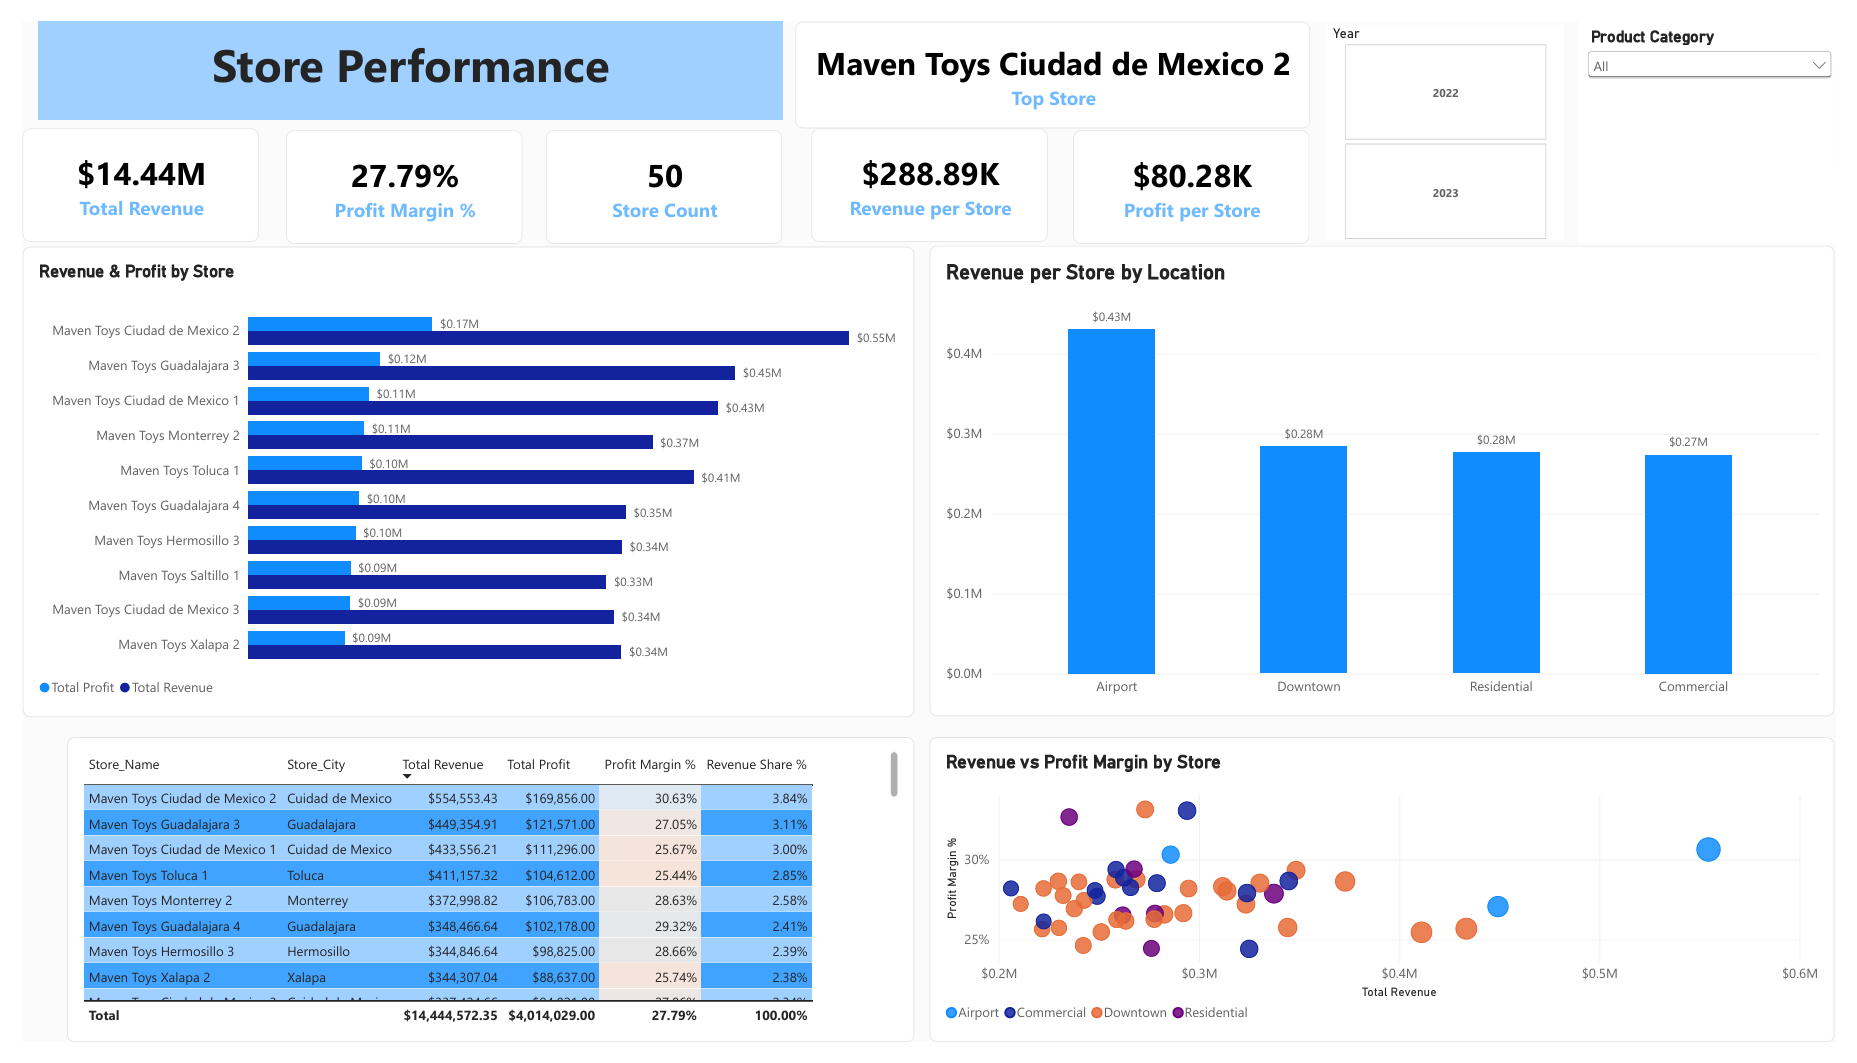

This screenshot's page, from the dashboard's own definition file:
{"tool":"powerbi","page":{"name":"Store Performance","canvas":[1920,1080],"ordinal":2},"visuals":[{"type":"cardVisual","fields":{"Data":["_Measures.Total Revenue"]},"box":[0,112.5,250,120],"z":0},{"type":"cardVisual","fields":{"Data":["_Measures.Profit Margin %"]},"box":[278.7,115.1,250,120],"z":1000},{"type":"cardVisual","fields":{"Data":["_Measures.Revenue per Store"]},"box":[835.4,112.5,250,120],"z":2000},{"type":"cardVisual","fields":{"Data":["_Measures.Store Count"]},"box":[554,114.7,250,120],"z":3000},{"type":"cardVisual","fields":{"Data":["_Measures.Profit per Store"]},"box":[1112.4,114.7,250,120],"z":4000},{"type":"clusteredBarChart","title":"Revenue & Profit by Store","fields":{"Category":["stores.Store_Name"],"Y":["_Measures.Total Profit","_Measures.Total Revenue"]},"box":[0,238.1,943.8,498],"z":5000},{"type":"clusteredColumnChart","title":"Revenue per Store by Location","fields":{"Category":["stores.Store_Location"],"Y":["_Measures.Revenue per Store"]},"box":[960,237.3,958.2,498],"z":5001},{"type":"tableEx","fields":{"Values":["stores.Store_Name","stores.Store_City","_Measures.Total Revenue","_Measures.Total Profit","_Measures.Profit Margin %","_Measures.Revenue Share %"]},"box":[46.7,756.9,897.1,323.6],"z":5003},{"type":"slicer","fields":{"Values":["products.Product_Category"]},"box":[1646.7,0,273.3,233.7],"z":5004},{"type":"scatterChart","title":"Revenue vs Profit Margin by Store","fields":{"Category":["stores.Store_Name"],"Series":["stores.Store_Location"],"Size":["_Measures.Total Units"],"X":["_Measures.Total Revenue"],"Y":["_Measures.Profit Margin %"]},"box":[960,756.9,958,323],"z":5005},{"type":"cardVisual","fields":{"Data":["_Measures.Top Store"]},"box":[818,0,545.4,112.5],"z":5006},{"type":"textbox","box":[17.3,0,787.7,103.9],"z":5007},{"type":"slicer","fields":{"Values":["calendar.Year"]},"box":[1378.6,4.3,253.2,227.2],"z":5008}]}

Visuals, with their boxes in screenshot pixels (x1, y1, x2, y2), scaled from the page's 1920x1080 canvas onto the 1857x1063 screenshot:
cardVisual - _Measures.Total Revenue: [left=0, top=111, right=242, bottom=229]
cardVisual - _Measures.Profit Margin %: [left=270, top=113, right=511, bottom=231]
cardVisual - _Measures.Revenue per Store: [left=808, top=111, right=1050, bottom=229]
cardVisual - _Measures.Store Count: [left=536, top=113, right=778, bottom=231]
cardVisual - _Measures.Profit per Store: [left=1076, top=113, right=1318, bottom=231]
"Revenue & Profit by Store" clusteredBarChart: [left=0, top=234, right=913, bottom=725]
"Revenue per Store by Location" clusteredColumnChart: [left=928, top=234, right=1855, bottom=724]
tableEx - stores.Store_Name x stores.Store_City: [left=45, top=745, right=913, bottom=1062]
slicer - products.Product_Category: [left=1593, top=0, right=1856, bottom=230]
"Revenue vs Profit Margin by Store" scatterChart: [left=928, top=745, right=1855, bottom=1062]
cardVisual - _Measures.Top Store: [left=791, top=0, right=1319, bottom=111]
textbox: [left=17, top=0, right=779, bottom=102]
slicer - calendar.Year: [left=1333, top=4, right=1578, bottom=228]
